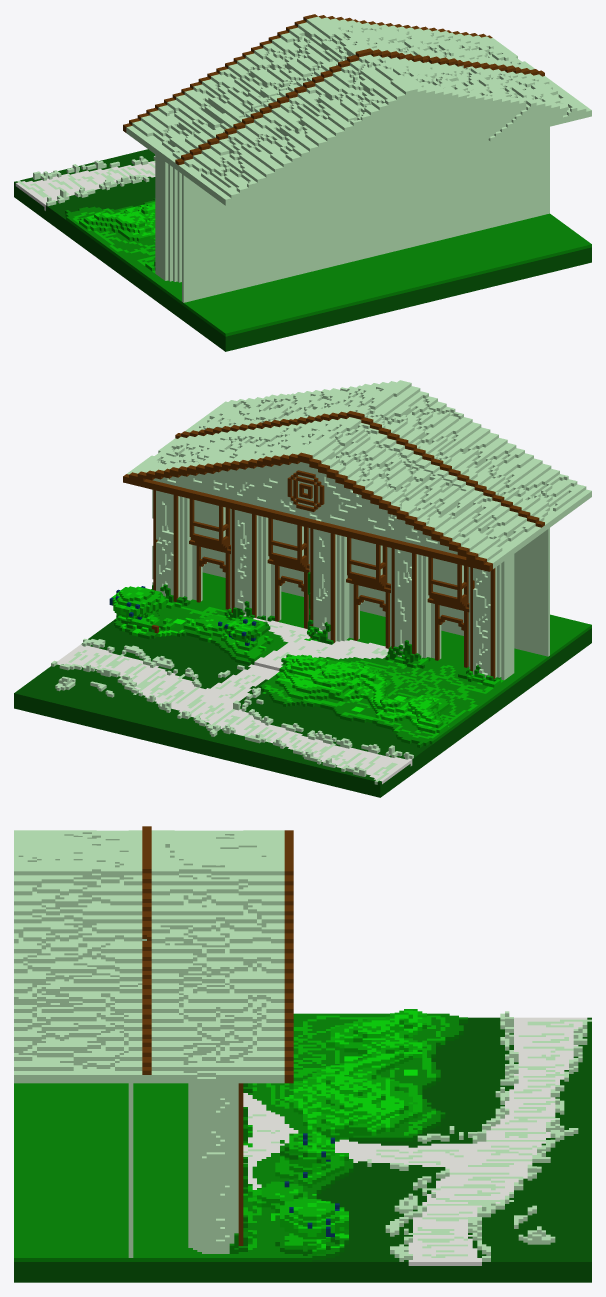
File: platform11111-0-0.obj
3 renders of one model, top to bottom at view 1: azimuth 30°, elevation 25°; view 2: azimuth 150°, elevation 25°; view 3: azimuth 270°, elevation 25°, orthographic. The views are drawn at different scales.
Bounding box in the file's own units: 12.6 × 7.2 × 12.6.
Materials: 1 (1 with a texture image).
